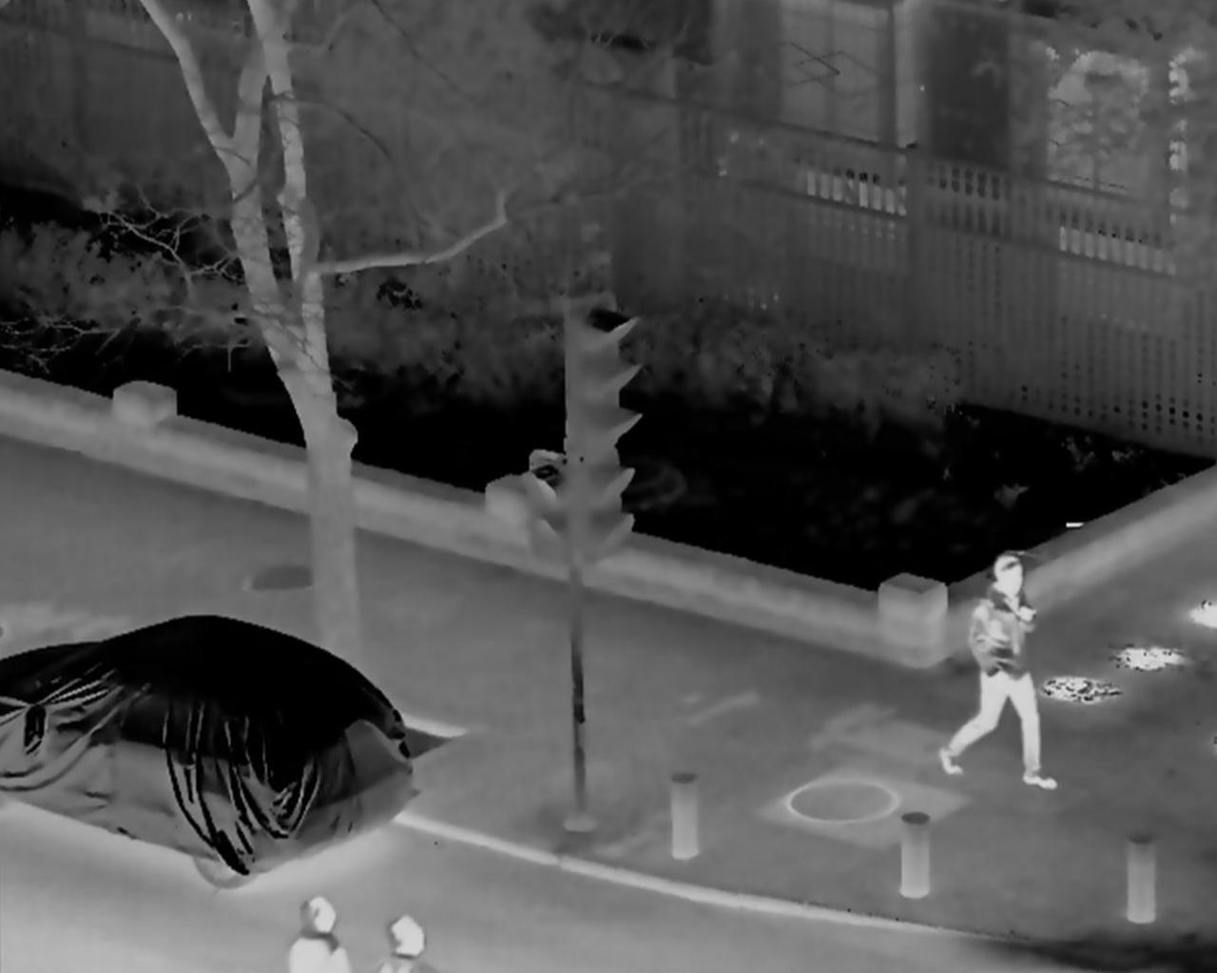person: (942, 558, 1062, 793)
